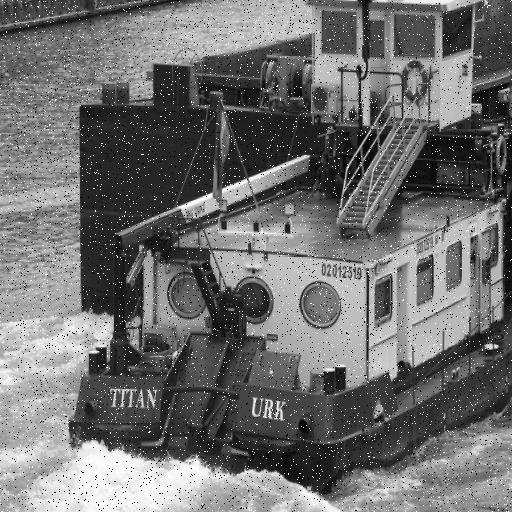tugboat: (64, 1, 512, 508)
